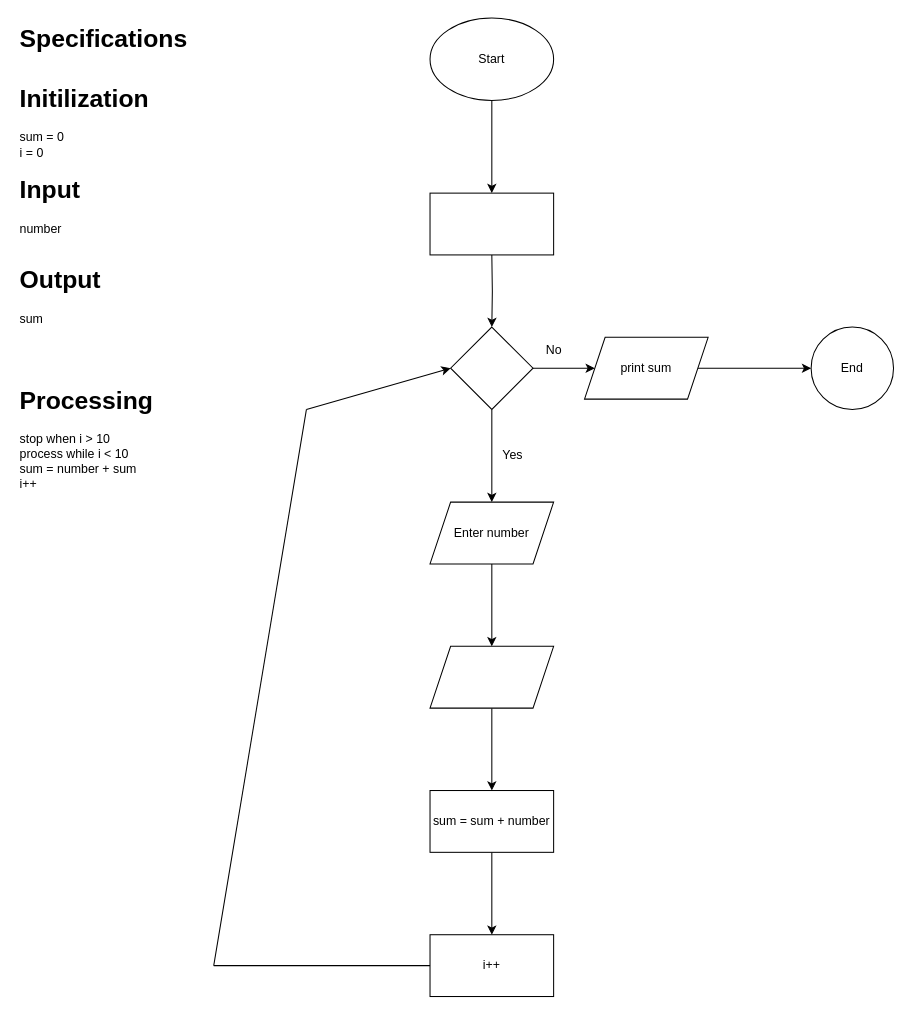
The diagram is 912 pixels wide and 1015 high, and some of its shapes have lost their labels. Each missing label, with the centre of its shape:
"if i < 10" belongs at (x=491, y=367).
"input number" belongs at (x=491, y=676).
"sum = 0 i = 0" belongs at (x=491, y=223).
